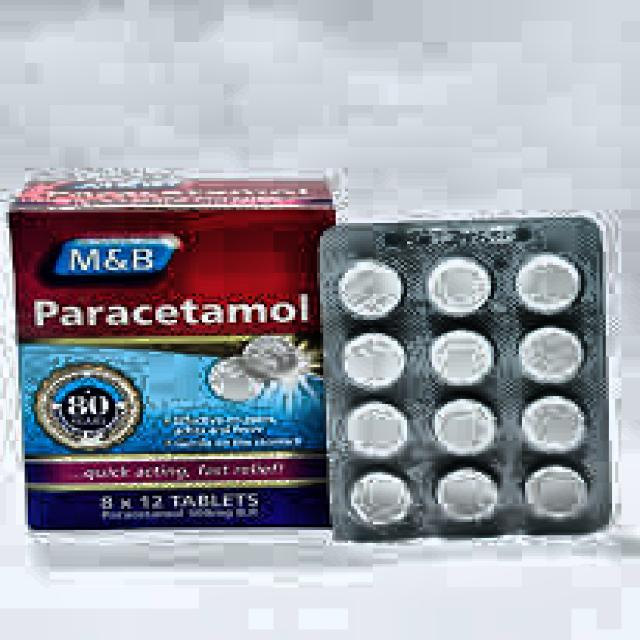Paracetamol: (21, 279, 357, 360)
